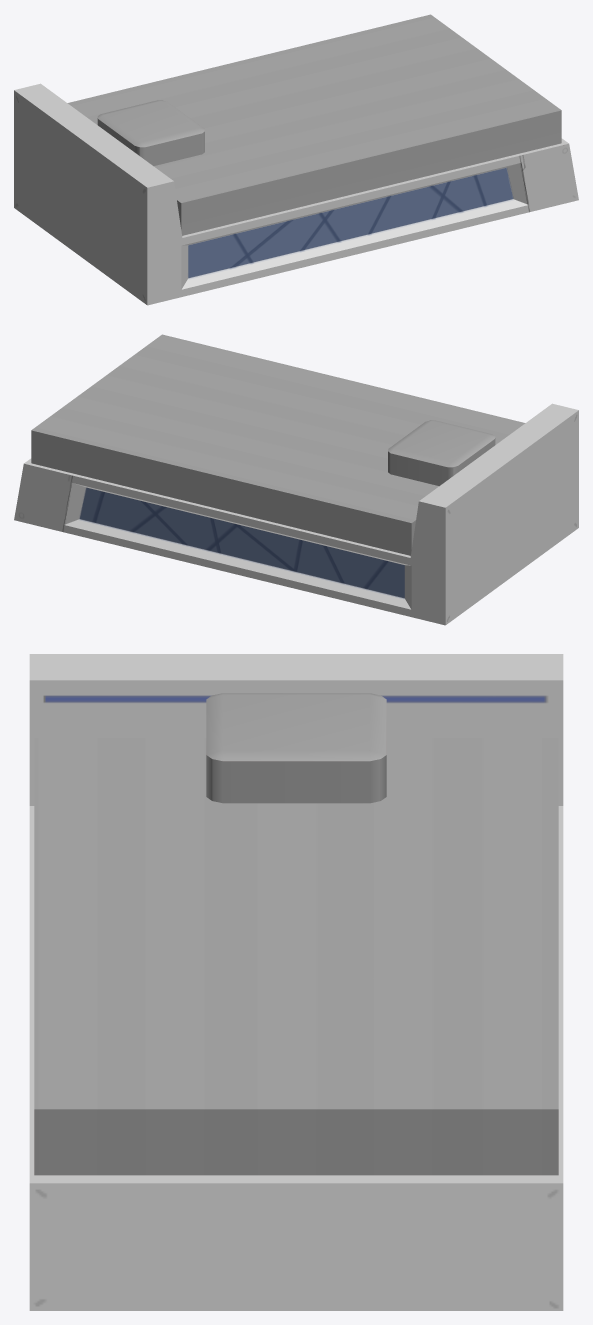
The model's file is Bed.fbx.
3 renders of one model, top to bottom at view 1: azimuth 30°, elevation 25°; view 2: azimuth 150°, elevation 25°; view 3: azimuth 270°, elevation 25°, orthographic. The views are drawn at different scales.
Visible parts, largest first — view 1: Main, Base, Pillow; view 2: Main, Base, Pillow; view 3: Main, Base, Pillow.
Boxes of the visible parts, x1,y1,x2,y2 form: Main: (67,14,561,235); Base: (14,83,578,305); Pillow: (97,100,204,166); Main: (31,334,525,555); Base: (14,403,578,625); Pillow: (388,420,495,486); Main: (34,738,558,1175); Base: (29,654,563,1310); Pillow: (206,693,386,803).
Size of the model in its own units: 4.49 by 1.17 by 2.4.
